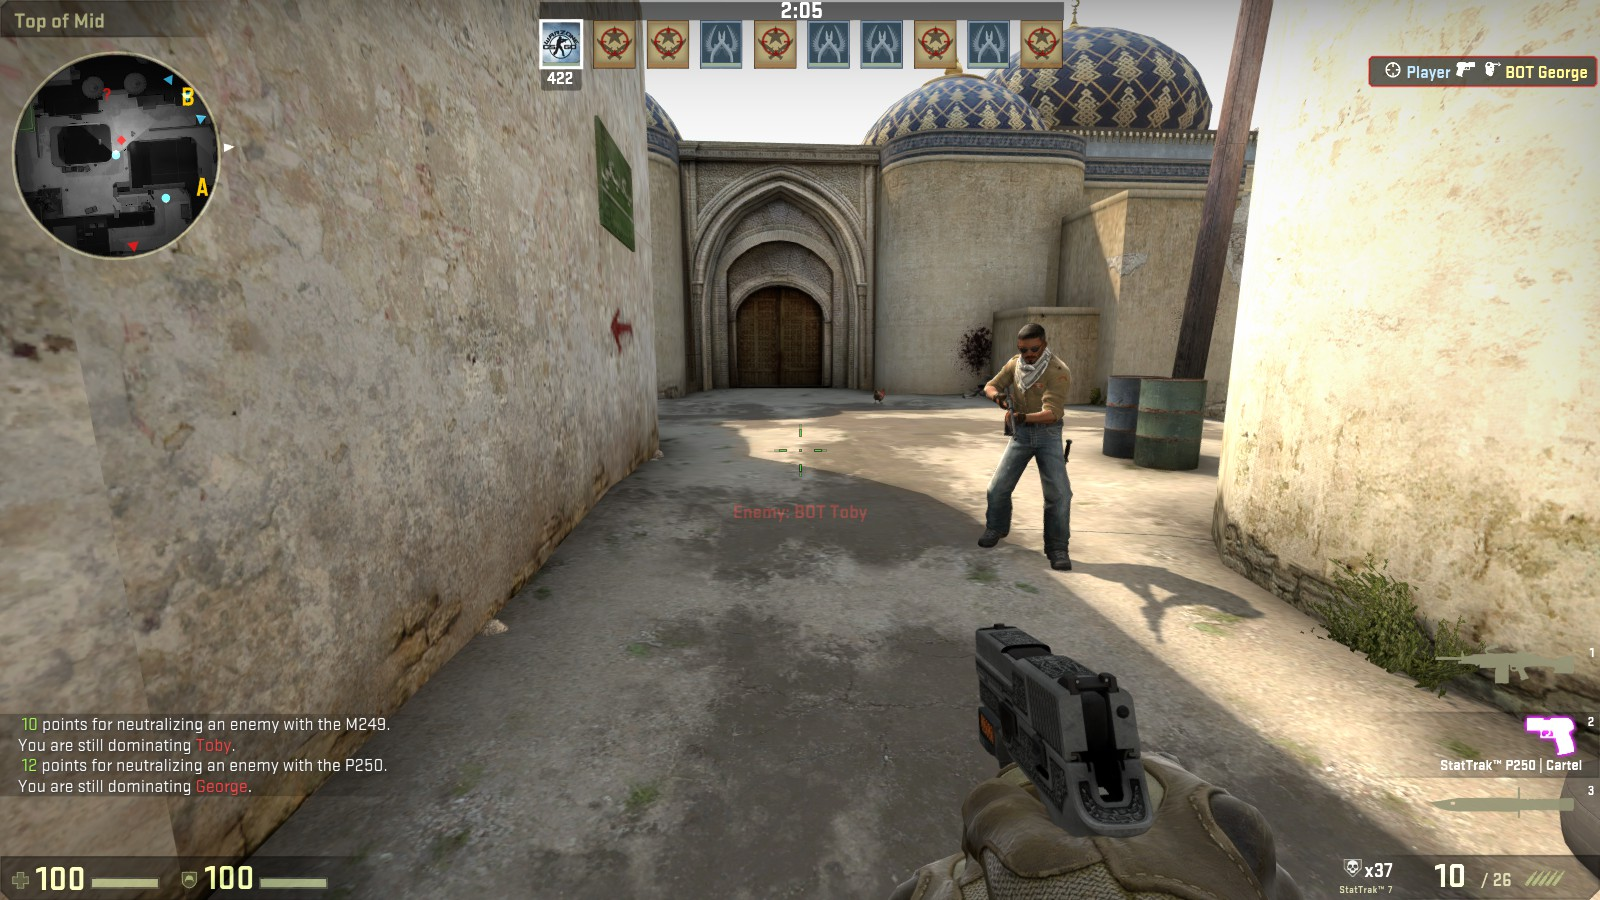t: (974, 323, 1079, 569)
th: (1013, 321, 1051, 369)
